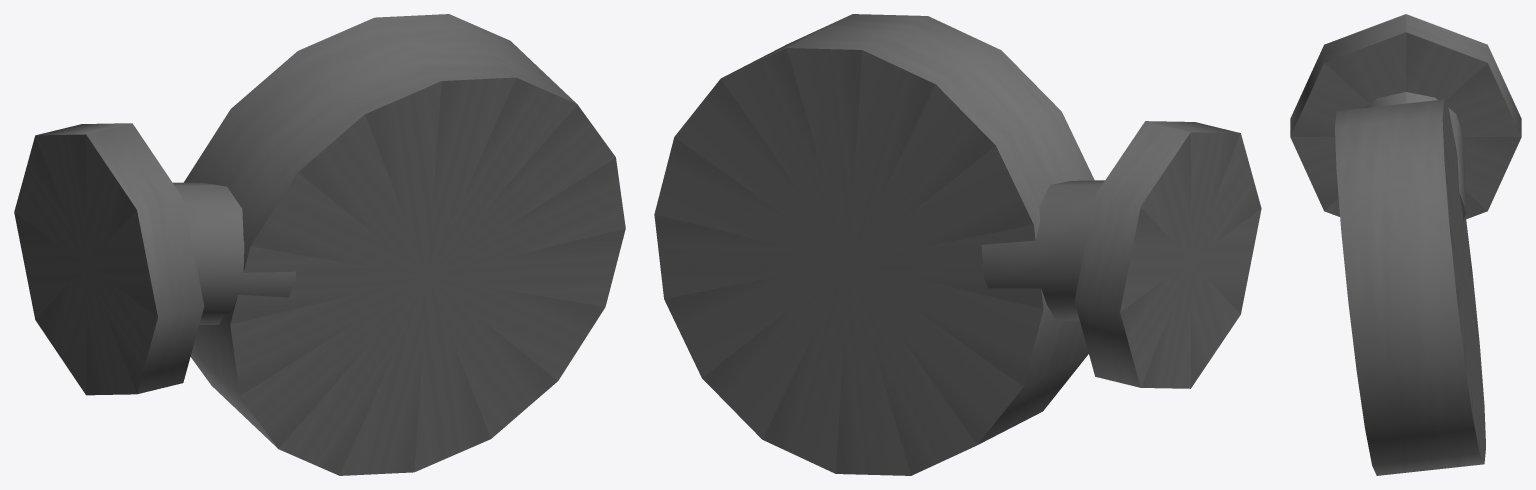
File: mastarmcurve_5x1_c4_west.obj
The picture shows the model from 3 angles, left to right: view 1: azimuth 30°, elevation 25°; view 2: azimuth 150°, elevation 25°; view 3: azimuth 270°, elevation 25°; orthographic projection. The views are drawn at different scales.
Visible parts, largest first — view 1: mastarm_5x1_c4_west; view 2: mastarm_5x1_c4_west; view 3: mastarm_5x1_c4_west.
Part boxes in pixels (x1,y1,x2,y2): mastarm_5x1_c4_west: (14, 14, 625, 475); mastarm_5x1_c4_west: (654, 14, 1261, 475); mastarm_5x1_c4_west: (1290, 14, 1521, 475).
Size of the model in its own units: 0.8168 by 0.6526 by 0.4.
